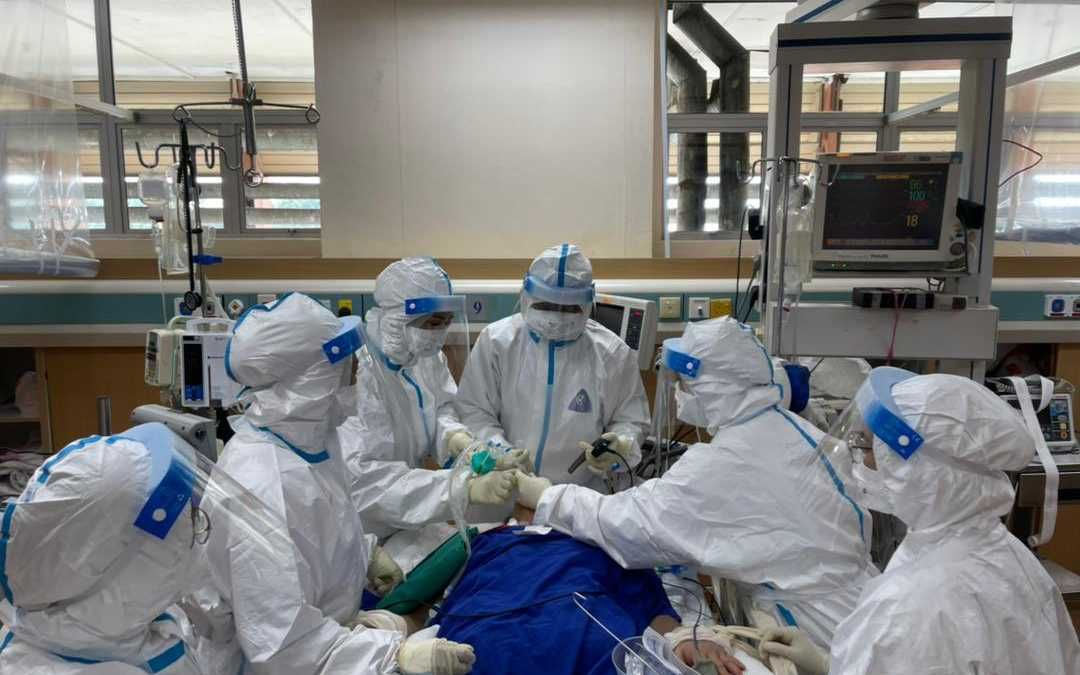Coverall: (616, 313, 891, 656), (829, 364, 1079, 675), (193, 290, 388, 675), (455, 245, 650, 501), (5, 433, 193, 675), (342, 248, 465, 559)
Face_Shield: (113, 410, 301, 627), (799, 353, 934, 537), (313, 310, 390, 436), (395, 293, 475, 395), (513, 277, 601, 355), (650, 338, 706, 459)
Gloves: (398, 623, 478, 675), (757, 619, 828, 671), (577, 429, 636, 480), (359, 539, 408, 598), (463, 468, 517, 506), (510, 470, 558, 512), (493, 444, 534, 477), (443, 427, 478, 461)
with_mask: (843, 423, 895, 508), (326, 343, 365, 434), (406, 310, 457, 359), (526, 301, 585, 342), (673, 371, 711, 433)
